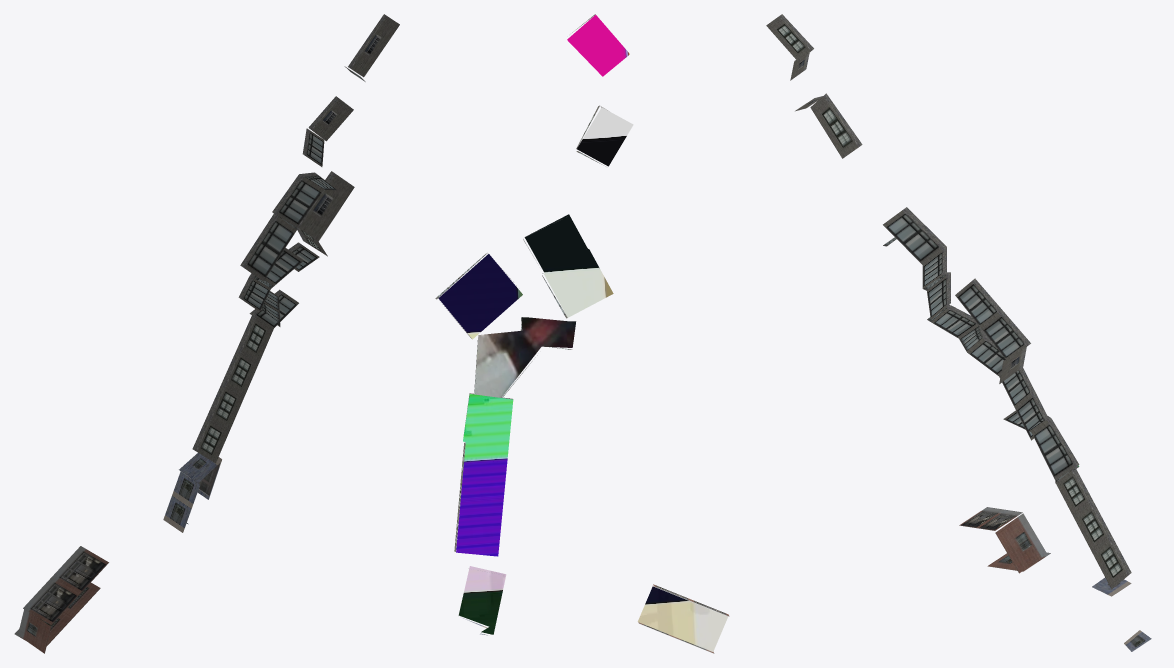
Rendered from tile_LOD4_r8_c4.glb.
3 views of the same model, side by side, from view 1: azimuth 30°, elevation 25°; view 2: azimuth 150°, elevation 25°; view 3: azimuth 270°, elevation 25° (orthographic). The views are drawn at different scales.
Bounding box in the file's own units: 52.5 × 93 × 50.
Materials: 17 (17 with a texture image).
